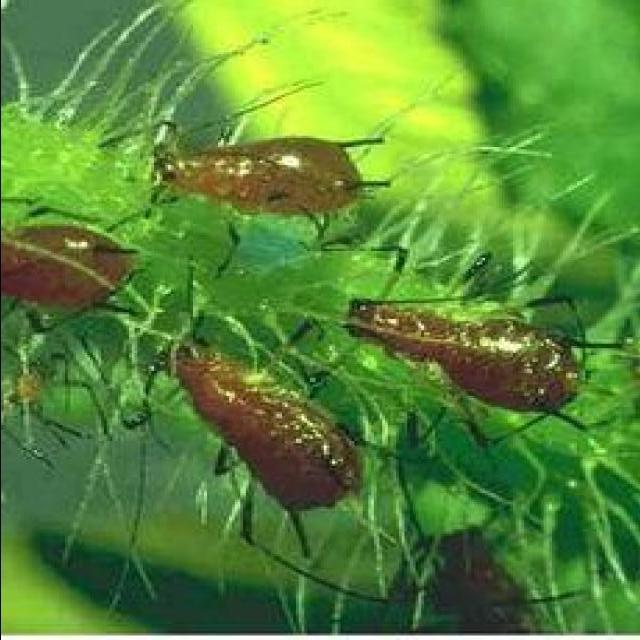aphid: (160, 334, 362, 518), (122, 94, 390, 223), (344, 289, 598, 424), (384, 534, 564, 636), (0, 214, 131, 308)
